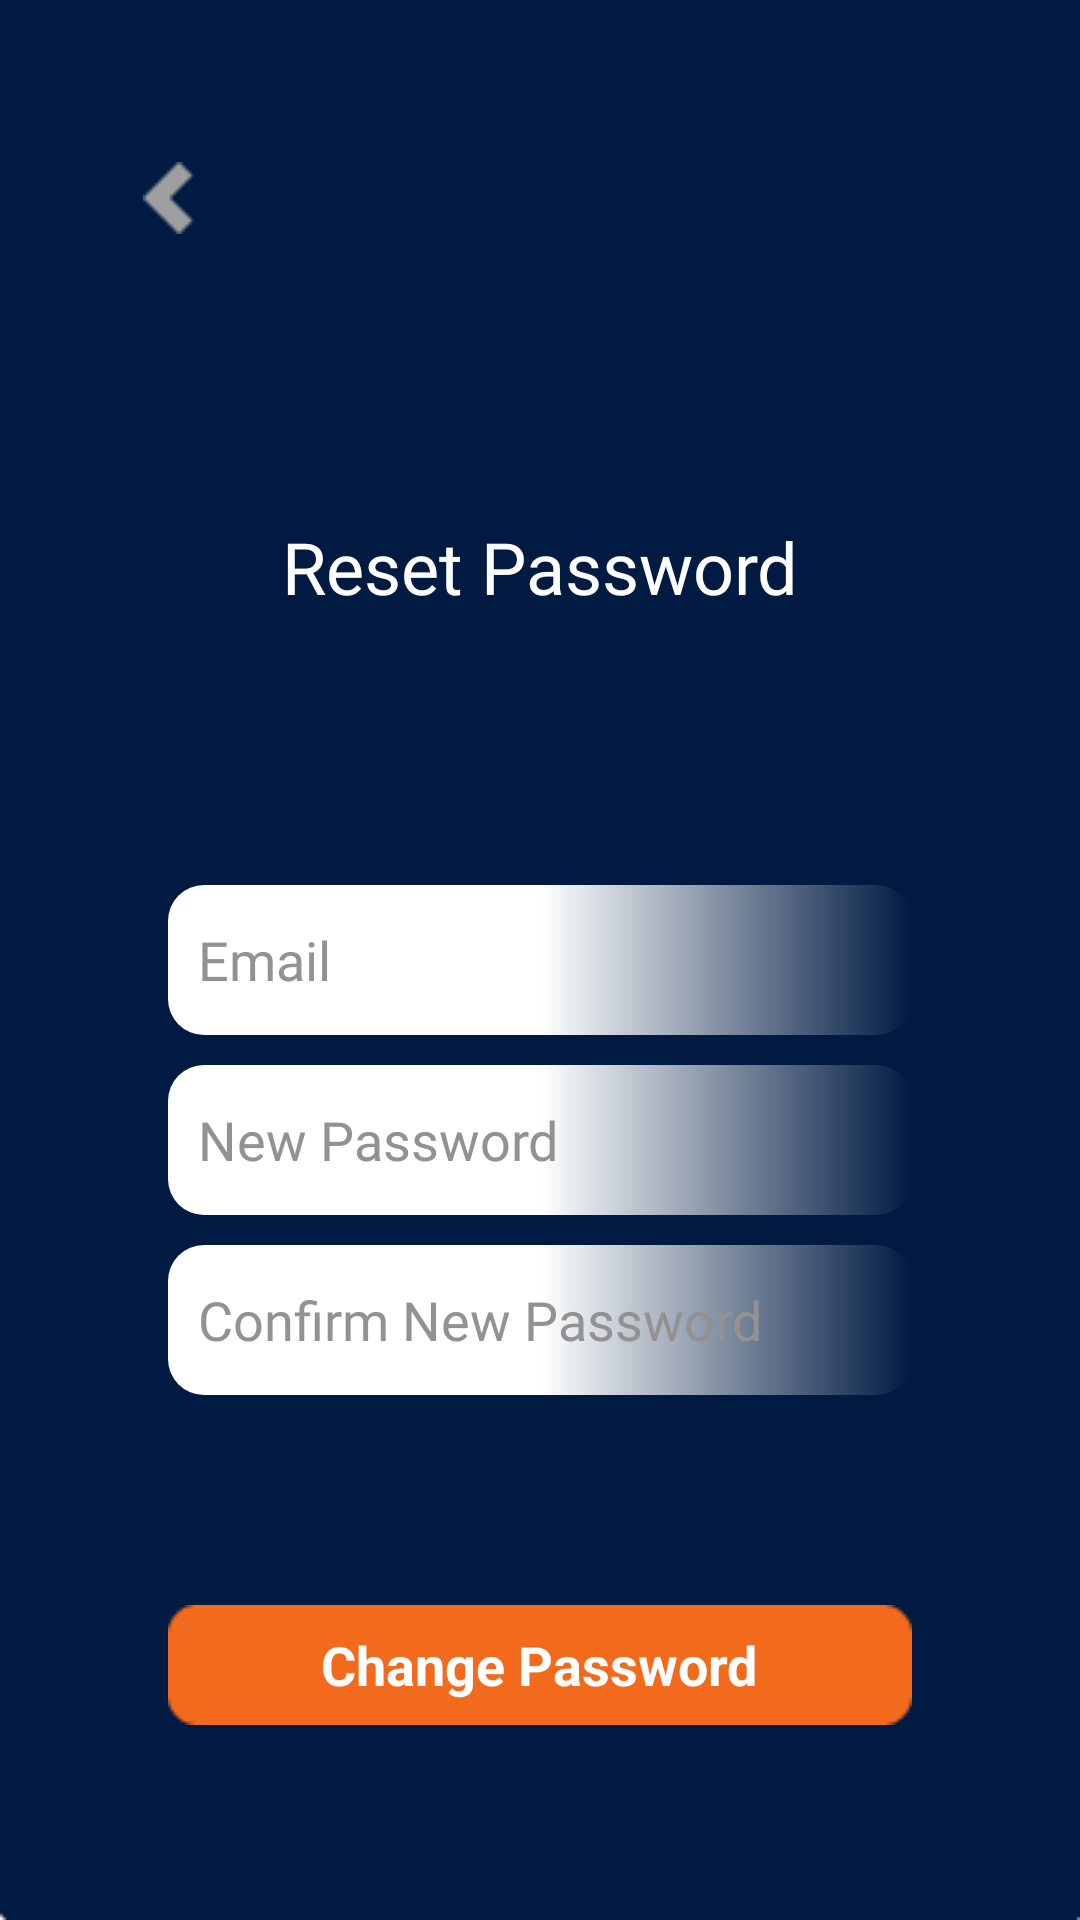

Icon click points for this 1080×1920 phone screenshot, format (x=x, y=y):
back: (x=168, y=198)
